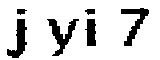7: (119, 5, 150, 51)
i: (83, 4, 104, 50)
j: (4, 6, 29, 59)
y: (46, 18, 81, 59)
